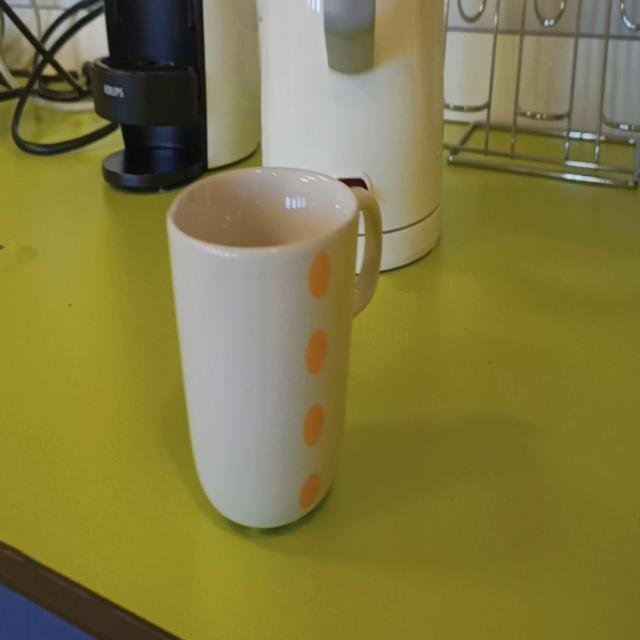cup: (162, 162, 385, 542)
